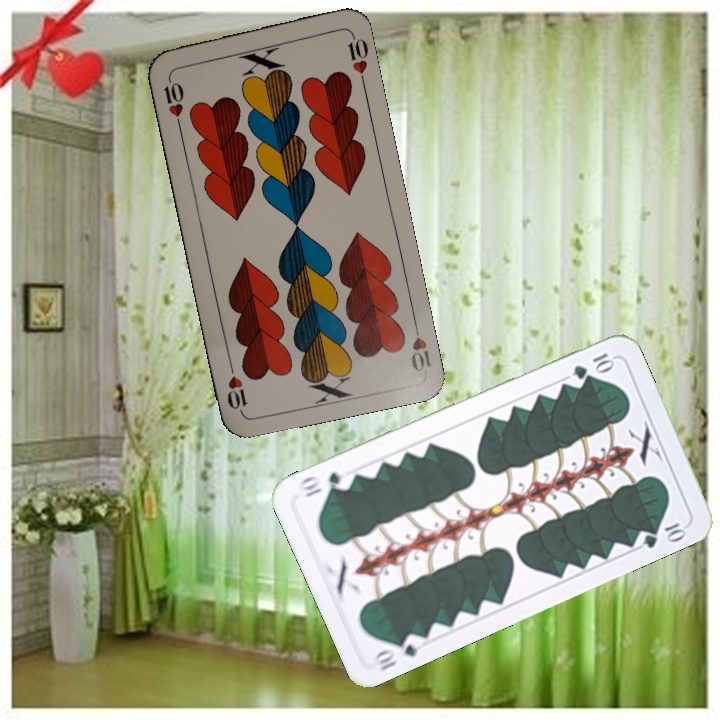G10: (368, 630, 424, 673), (569, 349, 617, 382)
H10: (159, 71, 187, 130), (407, 316, 434, 374)
